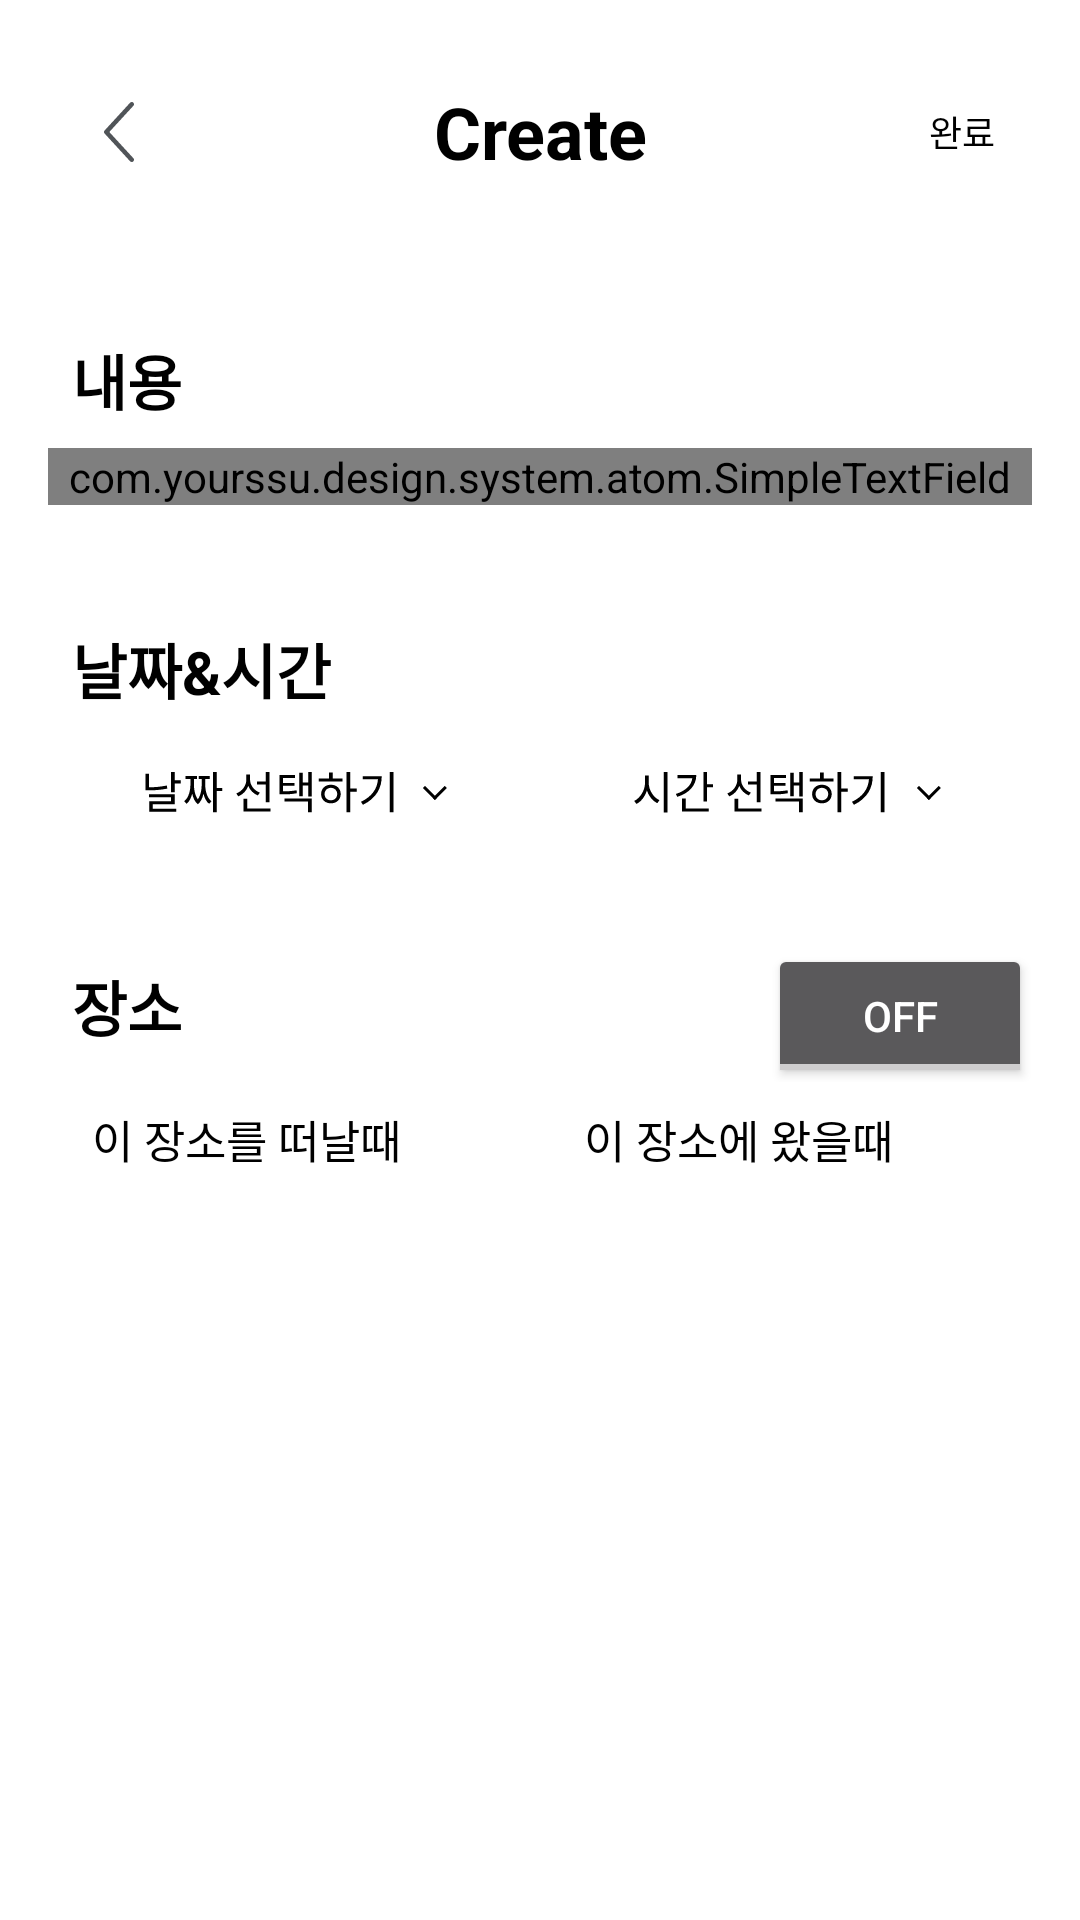

Icon click points for this 1080px x 1920px phone screenshot, format [x,y]:
topbarbutton: [119,132]
